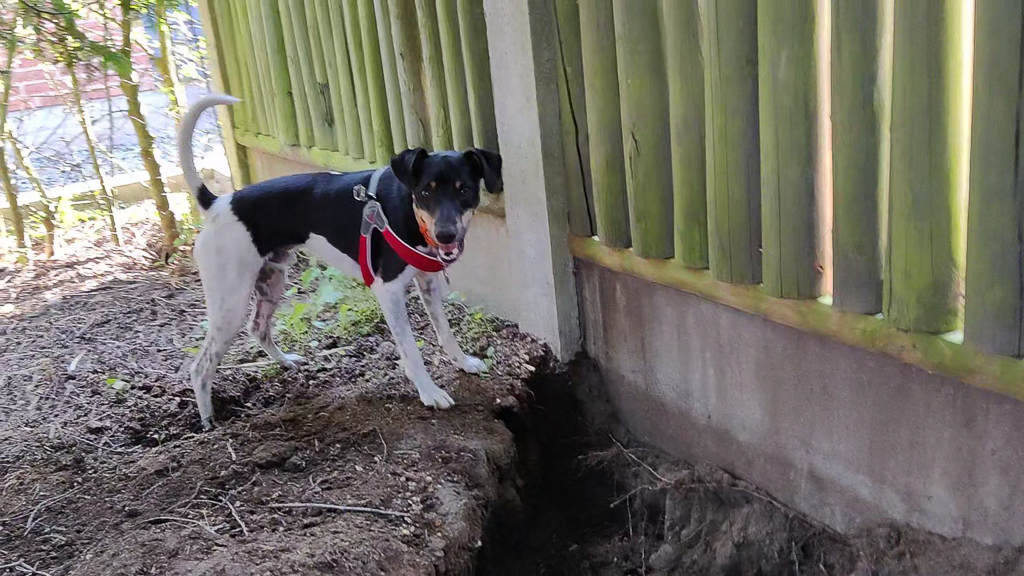Dog: (165, 82, 518, 439)
